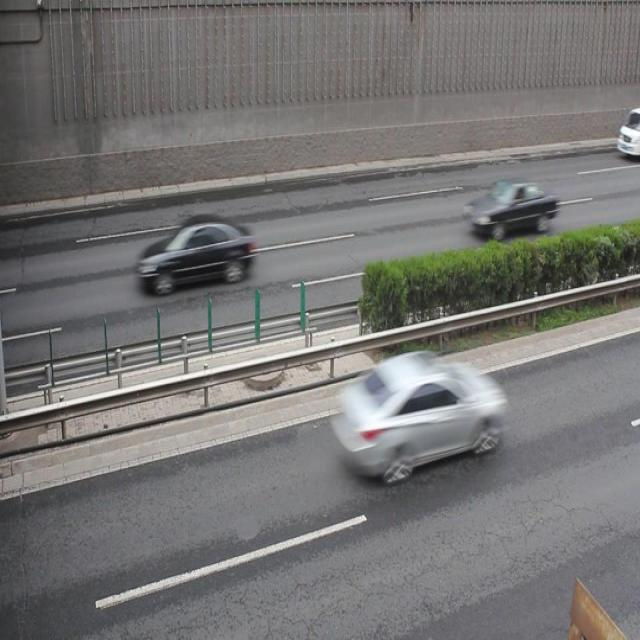car: (328, 348, 504, 482), (136, 217, 251, 294), (469, 182, 556, 238)
truck: (616, 108, 640, 160)
